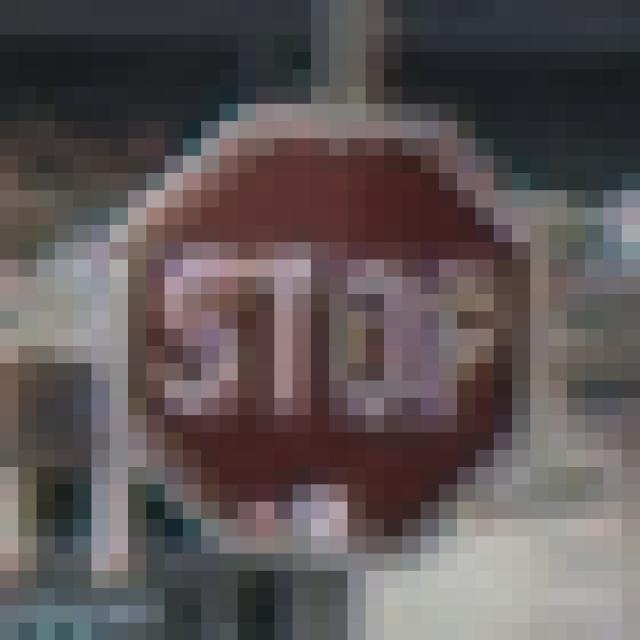STOP: (93, 105, 550, 554)
